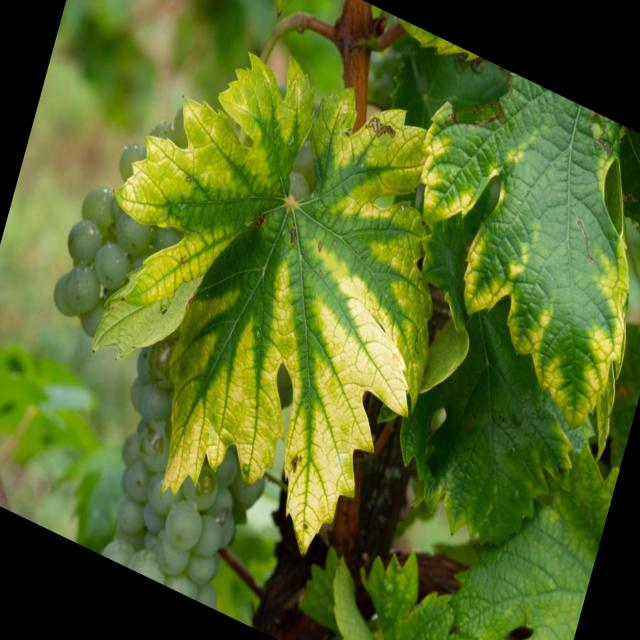Chlorosis: (72, 80, 450, 524)
